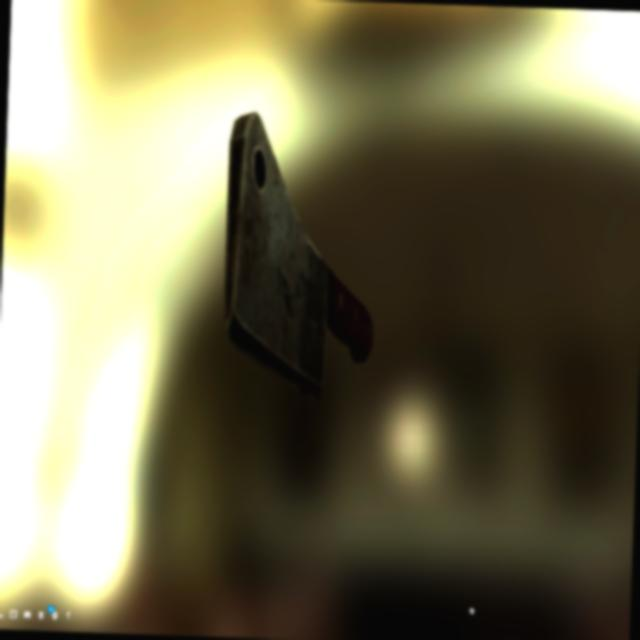cleaver: (215, 106, 382, 401)
